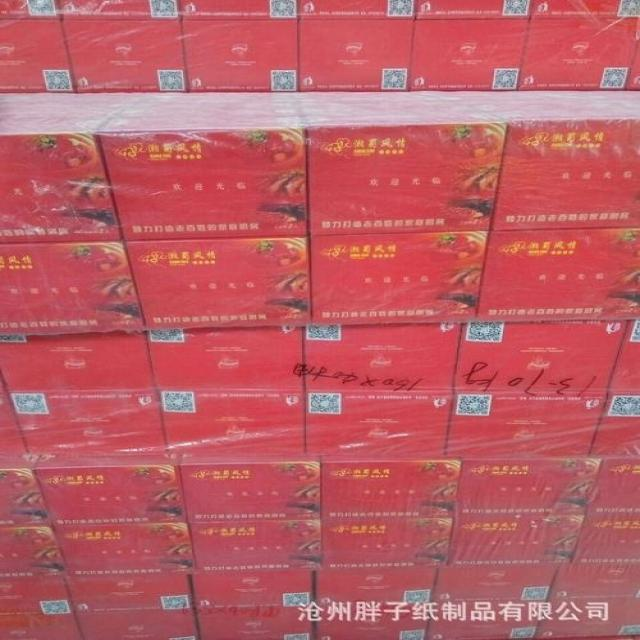box: (95, 92, 308, 243), (298, 91, 509, 236), (456, 91, 639, 230), (0, 92, 151, 243), (123, 237, 310, 331), (308, 231, 488, 327), (476, 228, 640, 323), (0, 241, 147, 336), (456, 321, 627, 393), (5, 389, 169, 458), (32, 456, 187, 528), (303, 322, 462, 390), (445, 391, 607, 457), (306, 389, 456, 458), (155, 389, 305, 458), (146, 326, 306, 389), (178, 456, 321, 523), (63, 18, 187, 92), (0, 332, 151, 391), (517, 18, 639, 91), (180, 19, 300, 92), (319, 457, 463, 517), (454, 458, 600, 517), (297, 19, 415, 91), (408, 20, 529, 90), (52, 524, 196, 581), (320, 515, 453, 570), (187, 522, 321, 575), (445, 515, 584, 565), (429, 563, 561, 609), (0, 20, 76, 92), (316, 568, 439, 607), (534, 595, 640, 640), (67, 576, 195, 613), (192, 571, 315, 608), (193, 605, 317, 640), (422, 604, 540, 640), (77, 608, 198, 640), (0, 457, 54, 526), (545, 563, 640, 602), (315, 608, 426, 640), (0, 528, 65, 580), (572, 518, 640, 566), (590, 394, 640, 459), (589, 459, 640, 519), (0, 581, 74, 617), (0, 370, 28, 460), (297, 0, 416, 21), (58, 0, 182, 20), (607, 320, 640, 395), (415, 0, 531, 21), (0, 612, 87, 640), (531, 0, 640, 20), (0, 0, 61, 20), (626, 20, 640, 90)
